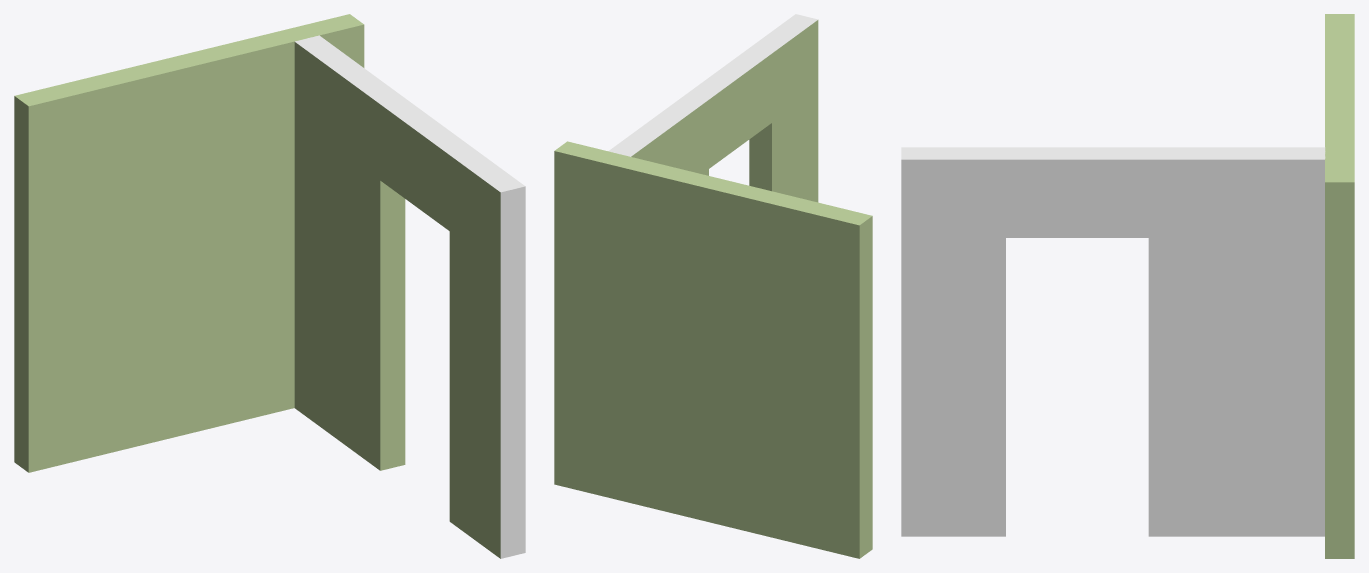
Rendered from Wall 7.FBX.
3 views of the same model, side by side, from view 1: azimuth 30°, elevation 25°; view 2: azimuth 150°, elevation 25°; view 3: azimuth 270°, elevation 25° (orthographic). The views are drawn at different scales.
Visible parts, largest first — view 1: wall 7; view 2: wall 7; view 3: wall 7.
Part boxes in pixels (x1,y1,x2,y2): wall 7: [14, 14, 525, 558]; wall 7: [554, 14, 872, 558]; wall 7: [901, 14, 1354, 558].
Bounding box in the file's own units: 278 × 290 × 317.
Materials: 2 (1 with a texture image).
